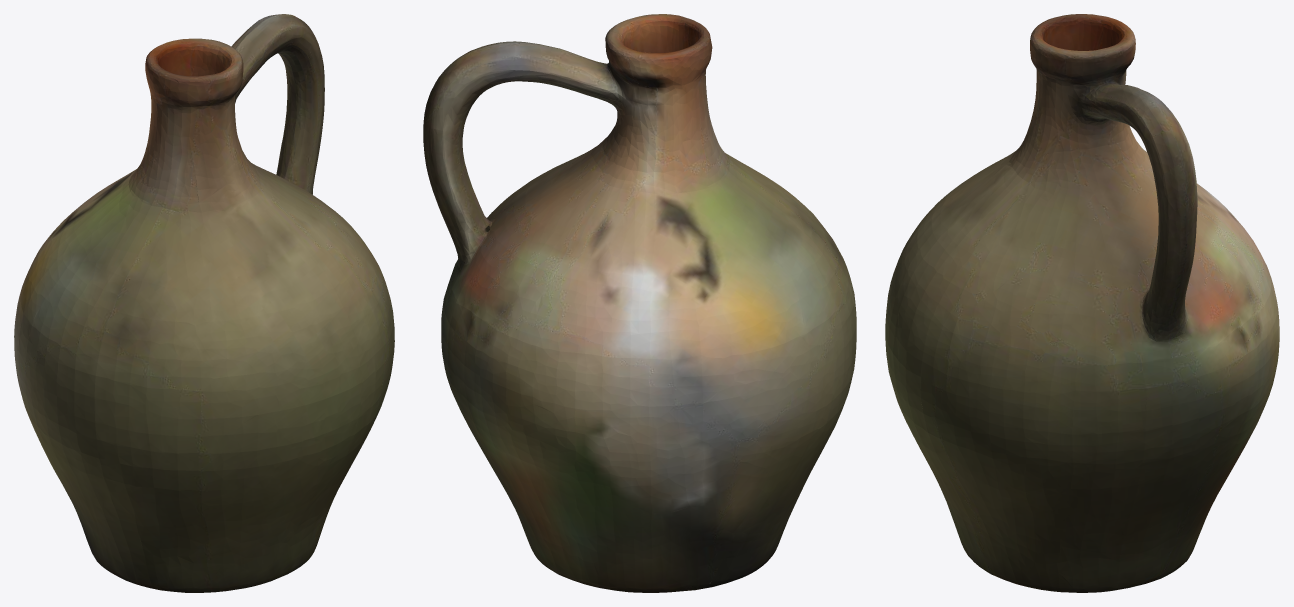
Rendered from ceramic_jug_on_the_left_000.glb.
3 renders of one model, left to right at view 1: azimuth 30°, elevation 25°; view 2: azimuth 150°, elevation 25°; view 3: azimuth 270°, elevation 25°, orthographic. The views are drawn at different scales.
Visible parts, largest first — view 1: phase2_final_ceramic_jug_on_the_left_000.obj; view 2: phase2_final_ceramic_jug_on_the_left_000.obj; view 3: phase2_final_ceramic_jug_on_the_left_000.obj.
Part boxes in pixels (<box>): phase2_final_ceramic_jug_on_the_left_000.obj: <box>14,14,394,592</box>; phase2_final_ceramic_jug_on_the_left_000.obj: <box>423,14,856,592</box>; phase2_final_ceramic_jug_on_the_left_000.obj: <box>885,14,1279,592</box>.
Size of the model in its own units: 0.4139 by 0.5735 by 0.4042.
Materials: 1 (1 with a texture image).
